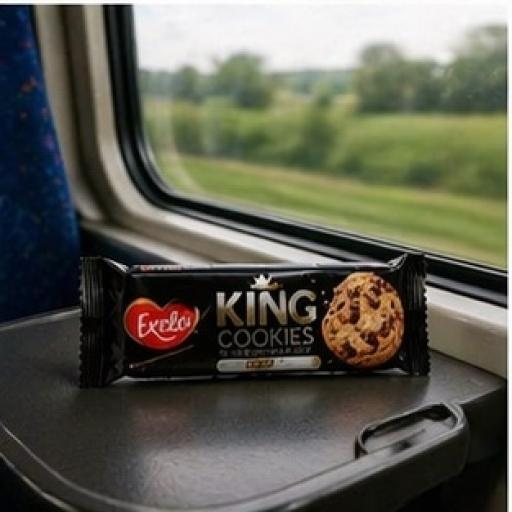king-cooking: (60, 205, 475, 436)
